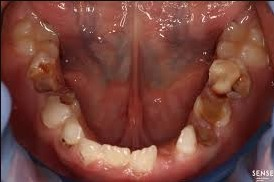LL1BC_decay: (193, 118, 218, 146)
LL1M_decay: (209, 60, 251, 99)
LL2BC_decay: (197, 89, 232, 127)
LL2M_healthy: (218, 22, 267, 60)
LLCI_healthy: (132, 146, 158, 173)
LLC_healthy: (178, 125, 198, 155)
LLLI_decay: (159, 141, 182, 169)
LR1BC_decay: (44, 92, 81, 124)
LR1M_healthy: (22, 20, 60, 58)
LR2BC_decay: (30, 57, 64, 95)
LRCI_healthy: (102, 142, 130, 168)
LRC_healthy: (63, 120, 85, 144)
LRLI_healthy: (81, 139, 103, 165)
